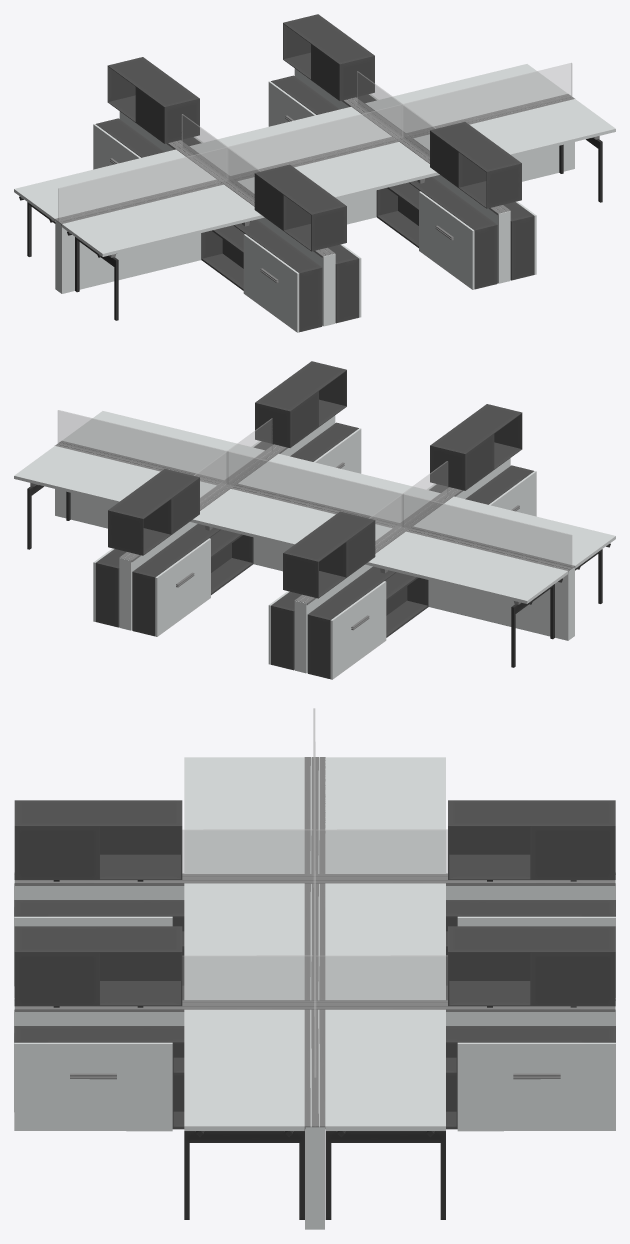
The model's file is DeskTableLong.fbx.
3 views of the same model, one above another, from view 1: azimuth 30°, elevation 25°; view 2: azimuth 150°, elevation 25°; view 3: azimuth 270°, elevation 25° (orthographic). The views are drawn at different scales.
Visible parts, largest first — view 1: DeskTableLong; view 2: DeskTableLong; view 3: DeskTableLong.
Part boxes in pixels (bbox=[...]): DeskTableLong: bbox=[14, 14, 615, 332]; DeskTableLong: bbox=[14, 361, 615, 679]; DeskTableLong: bbox=[14, 708, 615, 1229].
Bounding box in the file's own units: 556 × 118 × 383.
